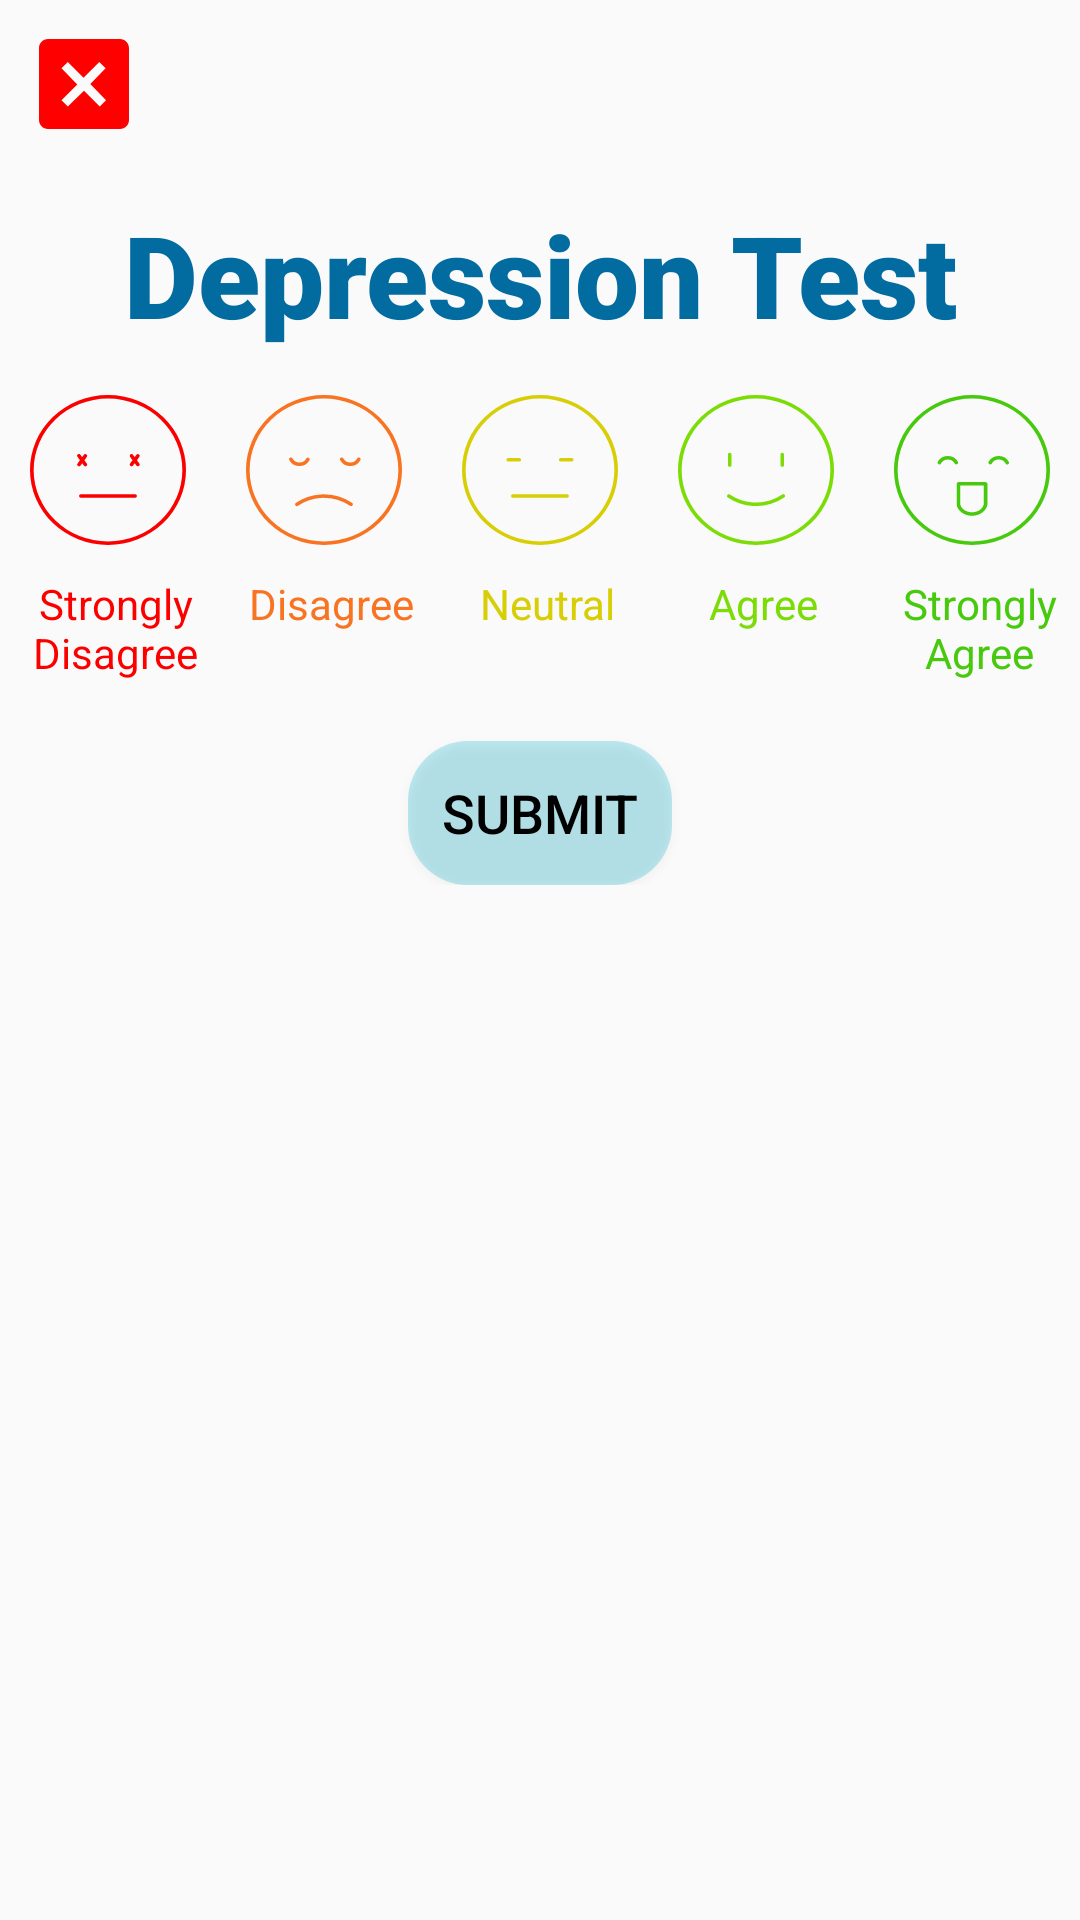

Icons on this 1080x1920 Android screen, each with the point to tap as (x,y):
close: (84,84)
